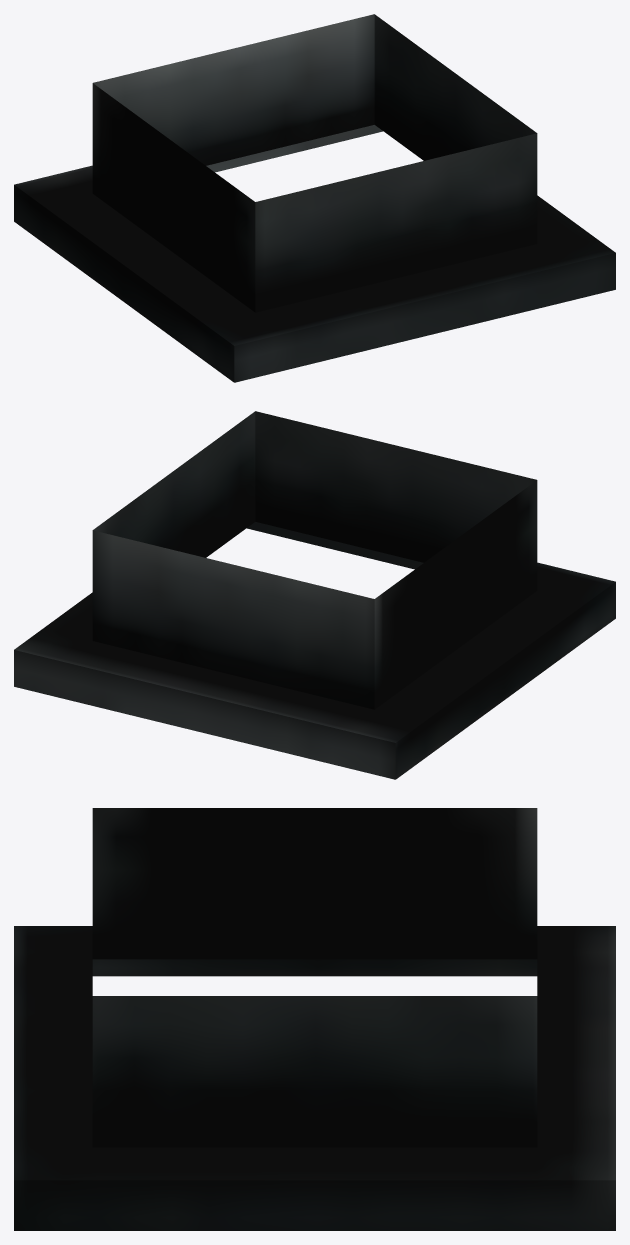
Rendered from Roof_AirConditioningBase.FBX.
3 renders of one model, top to bottom at view 1: azimuth 30°, elevation 25°; view 2: azimuth 150°, elevation 25°; view 3: azimuth 270°, elevation 25°, orthographic. The views are drawn at different scales.
Parts seen in each view (by area): view 1: Roof_AirConditioningBase; view 2: Roof_AirConditioningBase; view 3: Roof_AirConditioningBase.
Part boxes in pixels (box(x1,y1,x2,y2)): Roof_AirConditioningBase: box(14, 14, 615, 382); Roof_AirConditioningBase: box(14, 411, 615, 779); Roof_AirConditioningBase: box(14, 808, 615, 1230).
Size of the model in its own units: 1.35 by 0.5 by 1.35.
